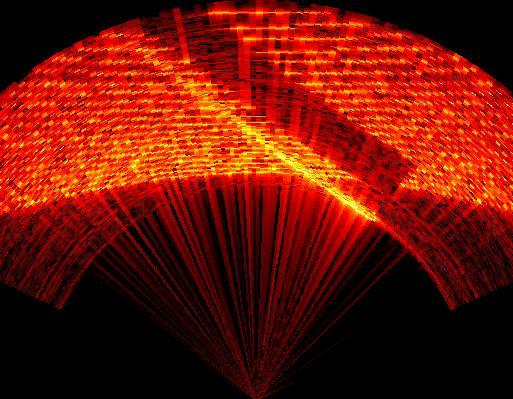pipe: (138, 6, 418, 198)
